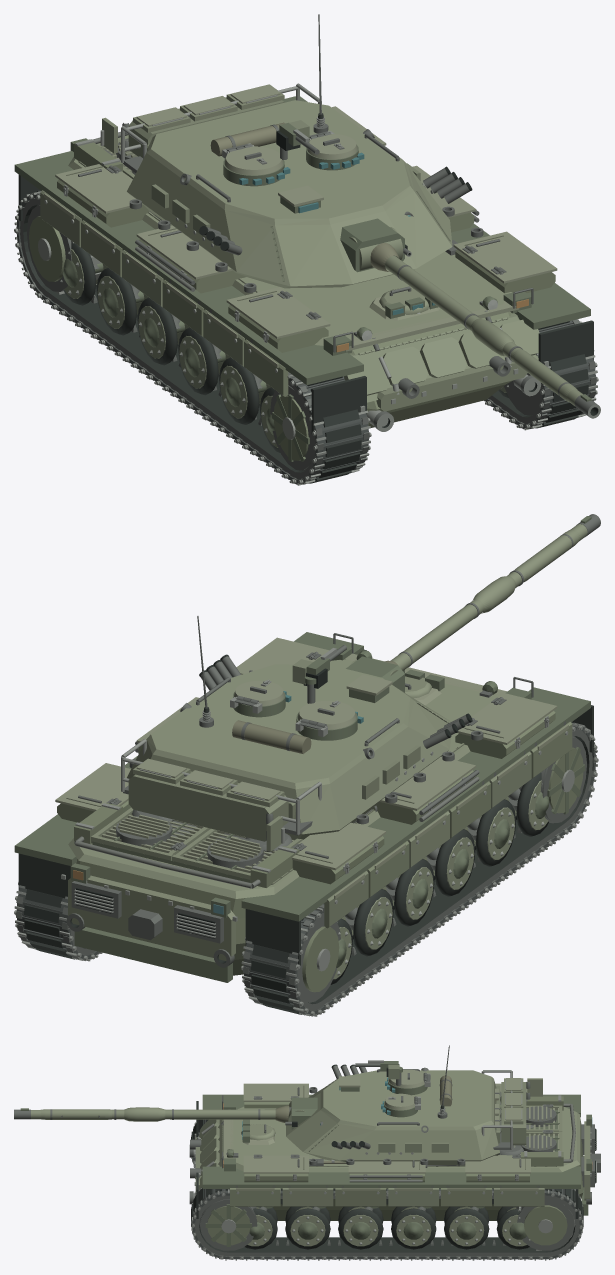
Rendered from spheres-tank-mobile.glb.
3 views of the same model, one above another, from view 1: azimuth 30°, elevation 25°; view 2: azimuth 150°, elevation 25°; view 3: azimuth 270°, elevation 25° (orthographic). The views are drawn at different scales.
Visible parts, largest first — view 1: Spheres mobile tank; view 2: Spheres mobile tank; view 3: Spheres mobile tank.
Boxes of the visible parts, bbox=[...] form: Spheres mobile tank: bbox=[14, 14, 600, 485]; Spheres mobile tank: bbox=[14, 514, 600, 1016]; Spheres mobile tank: bbox=[14, 1045, 600, 1260].
Size of the model in its own units: 3.83 by 3.69 by 10.3.
